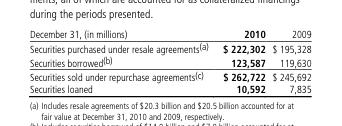table: (28, 29, 310, 94)
table column: (28, 29, 214, 94), (214, 29, 268, 94), (268, 29, 310, 94)
table column header: (28, 29, 310, 40)
table row: (28, 54, 310, 69), (28, 40, 310, 54), (28, 69, 310, 83), (28, 29, 310, 40), (28, 83, 310, 94)
